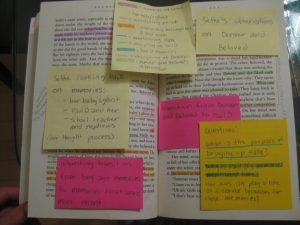Note: (200, 122, 291, 208), (45, 68, 131, 151), (112, 1, 199, 75), (53, 156, 145, 208), (158, 97, 242, 147), (196, 9, 278, 57)
